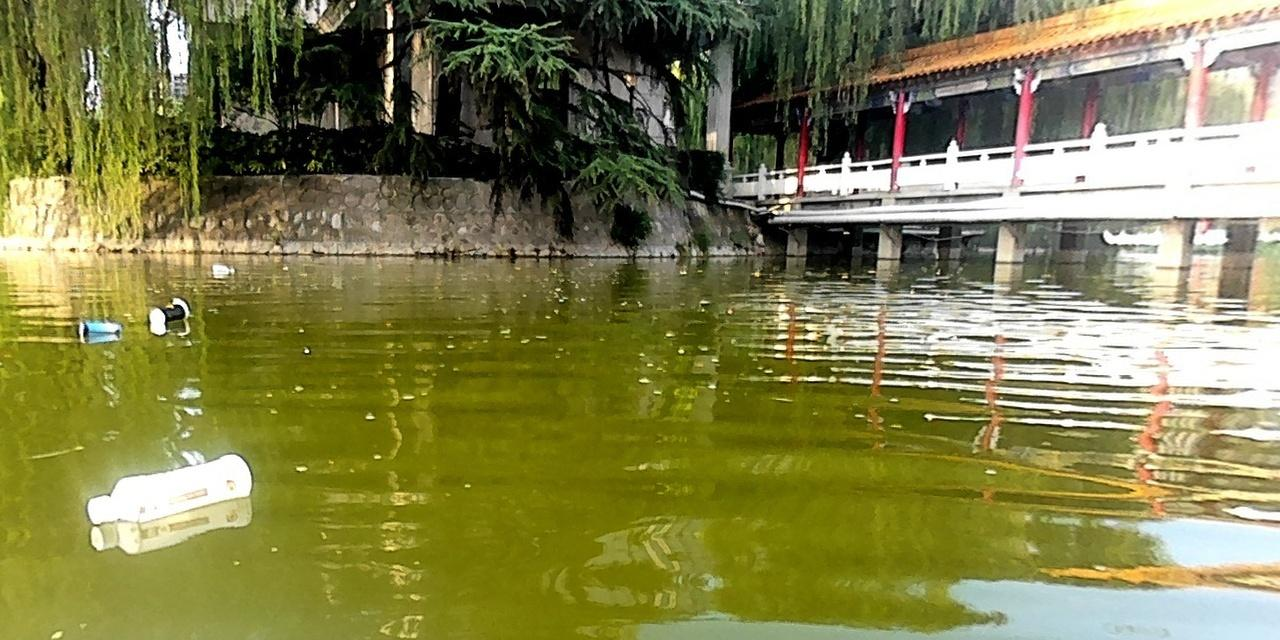bottle: (86, 450, 257, 528), (146, 292, 192, 326), (74, 317, 124, 337), (209, 259, 235, 276)
